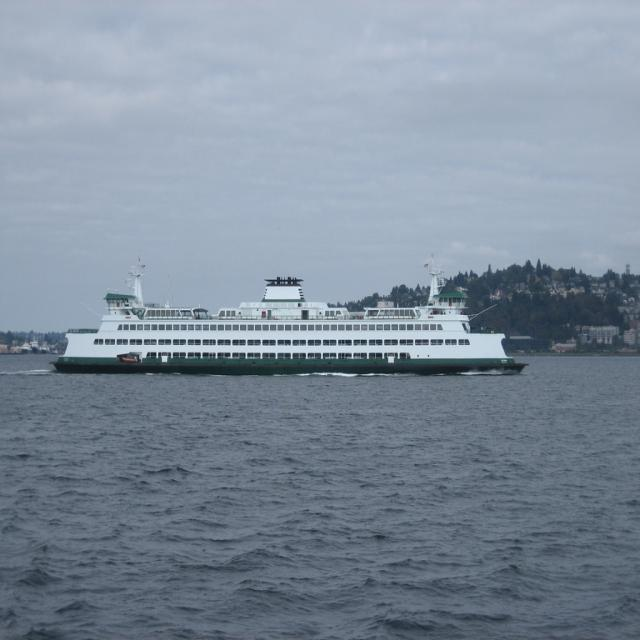Boat: (51, 254, 525, 380)
